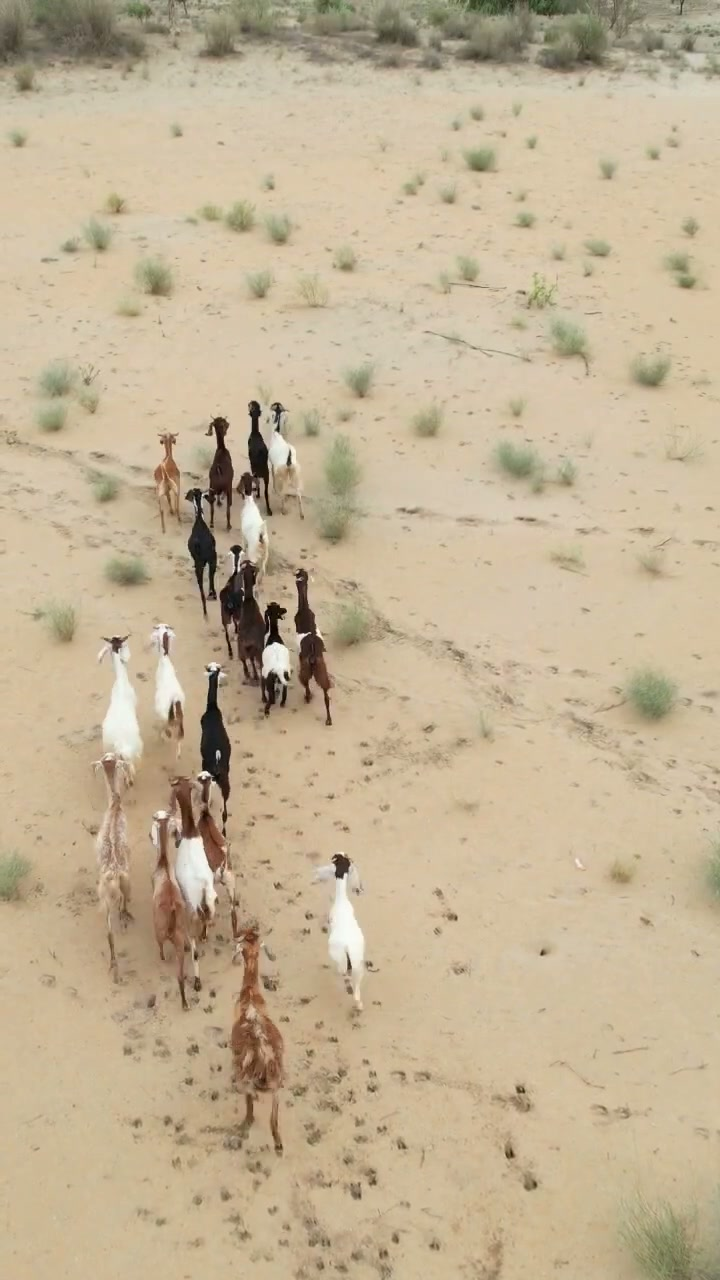animal_foot_print: (73, 692, 473, 1279)
